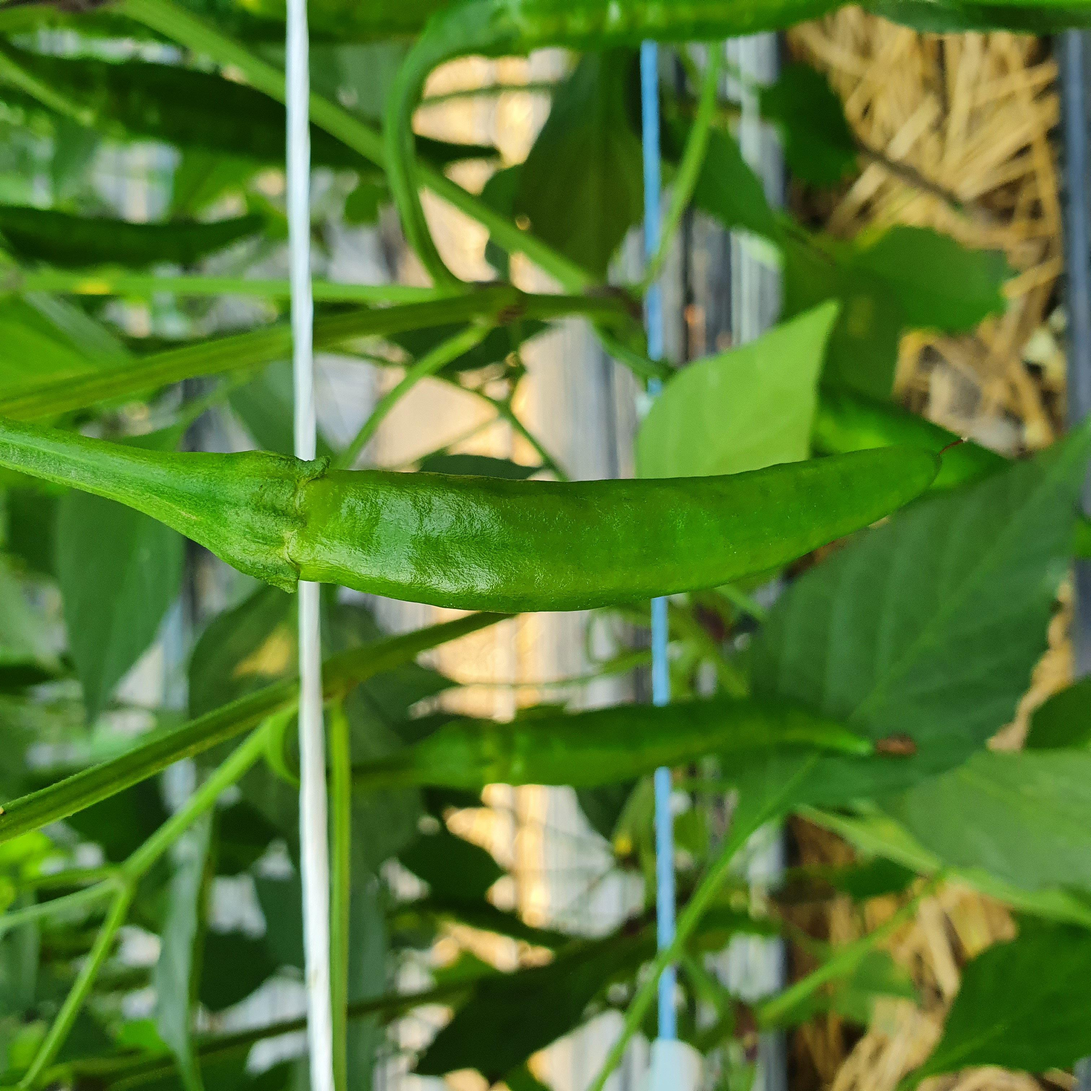Buah Cabai Sehat: (203, 434, 971, 617)
